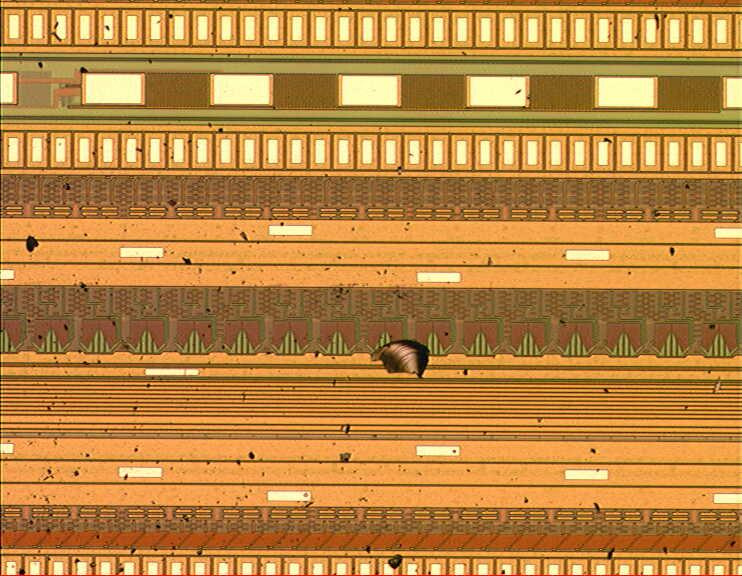PO CONTAMINATION: (1, 1, 742, 576)
